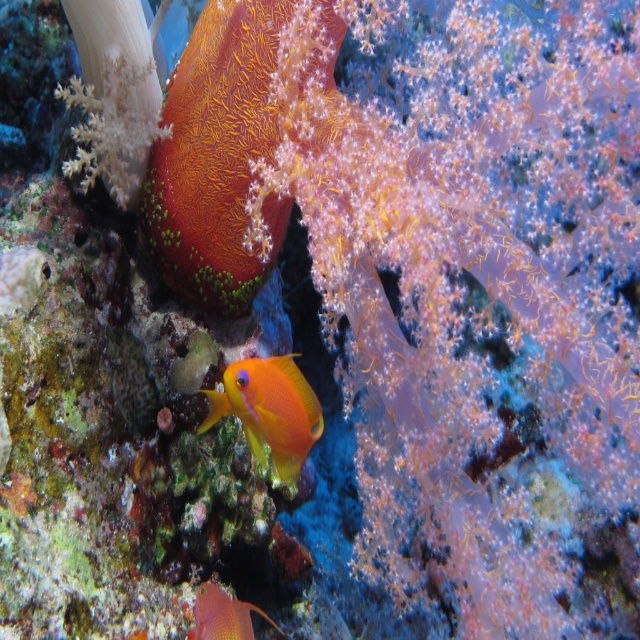Fish: (194, 338, 328, 506), (192, 577, 286, 639)
